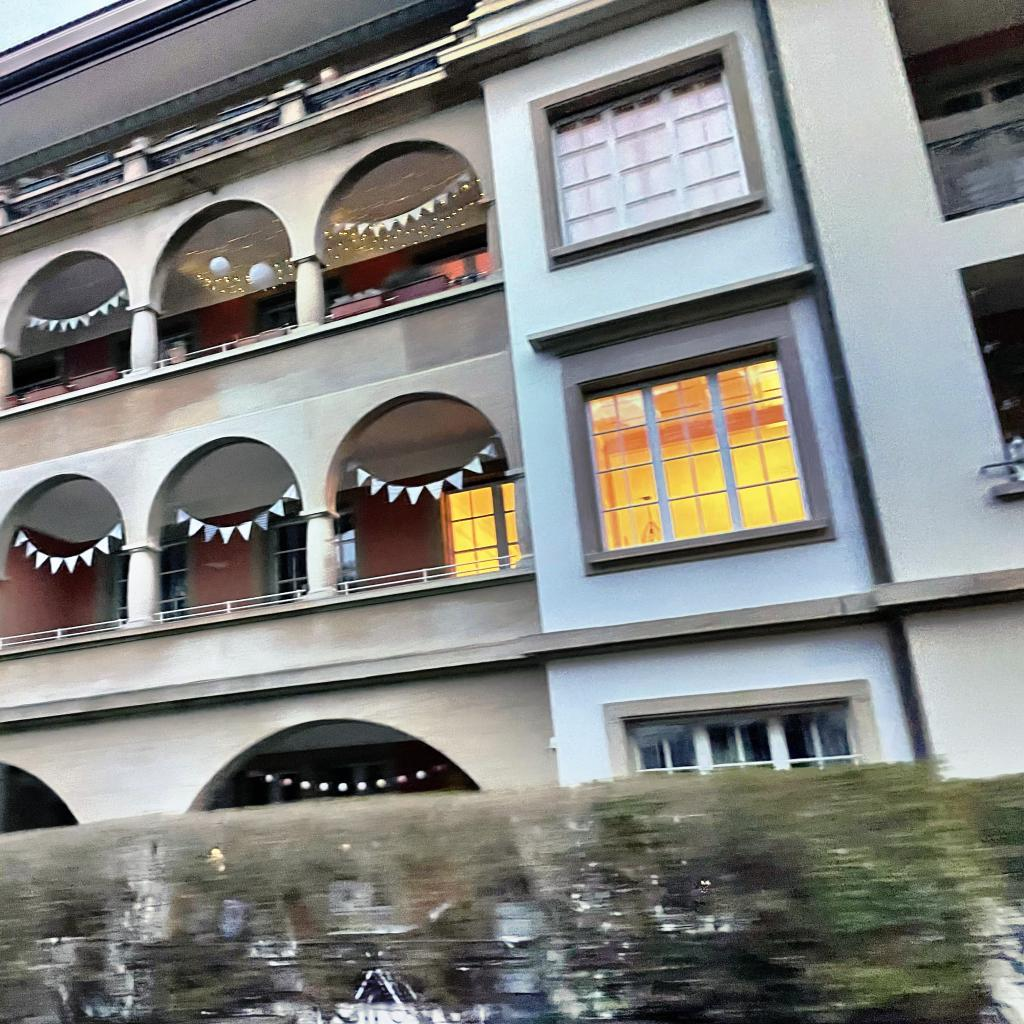balcony-fence: (323, 265, 504, 325), (335, 554, 521, 596), (154, 324, 297, 370), (0, 367, 132, 410), (151, 588, 307, 624), (0, 617, 128, 650), (978, 456, 1024, 490)
vegetation: (0, 756, 1024, 1024)
window: (583, 348, 812, 553), (550, 61, 751, 247), (625, 698, 852, 773), (920, 69, 1024, 220), (267, 507, 360, 606), (444, 479, 522, 579), (112, 537, 191, 629), (422, 246, 490, 280), (262, 303, 296, 332)
